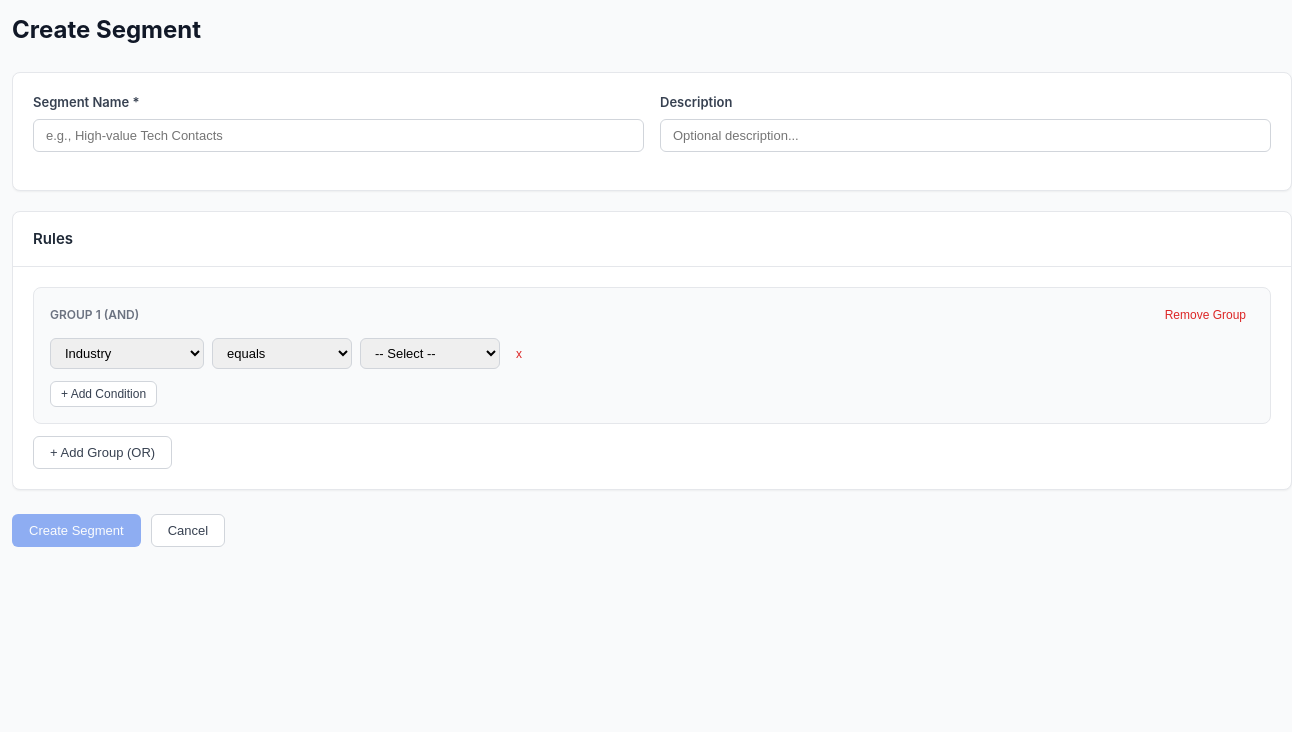
Scenario: SegmentBuilder component › adds a new rule group when clicking Add Group
Click the button "+ Add Group (OR)" at point(103, 452), box x1=33 y1=436 x2=172 y2=469
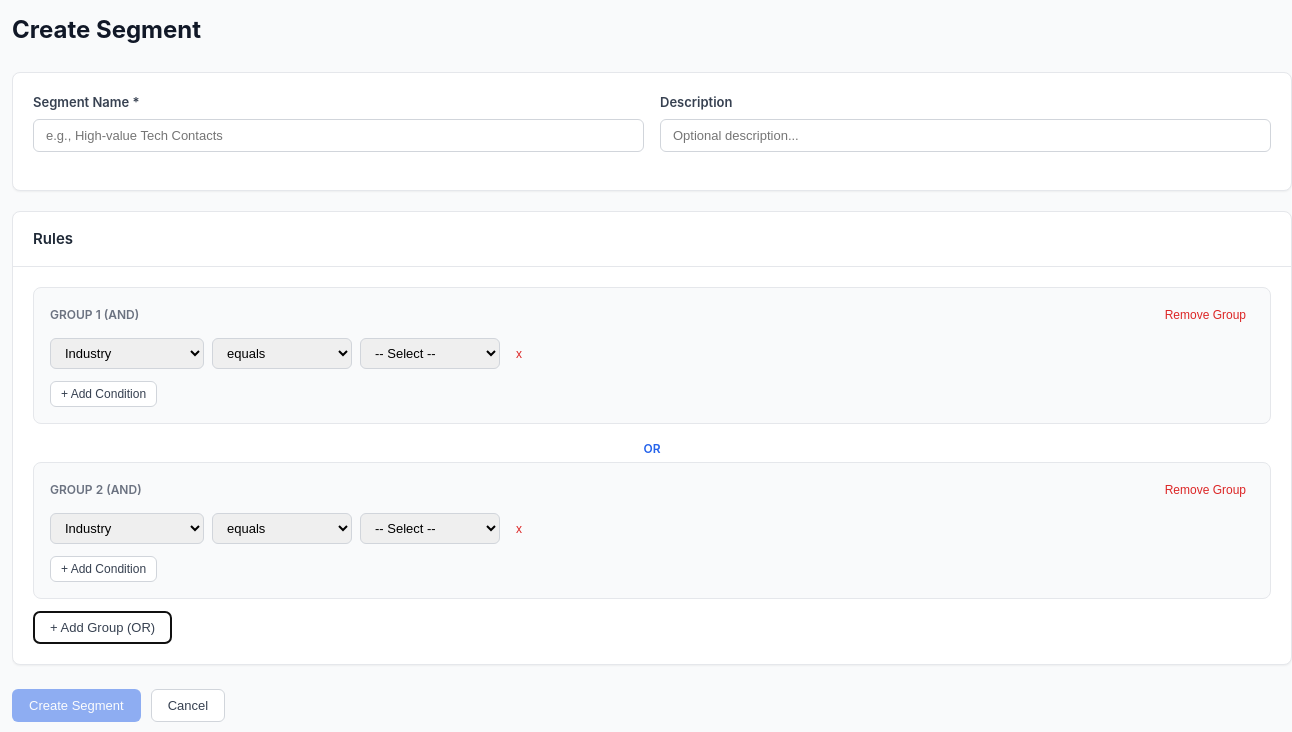
expect the text "OR" is shown: met, box x1=644 y1=441 x2=661 y2=456
expect the text "Group 2 (AND)" is shown: met, box x1=50 y1=481 x2=142 y2=499
